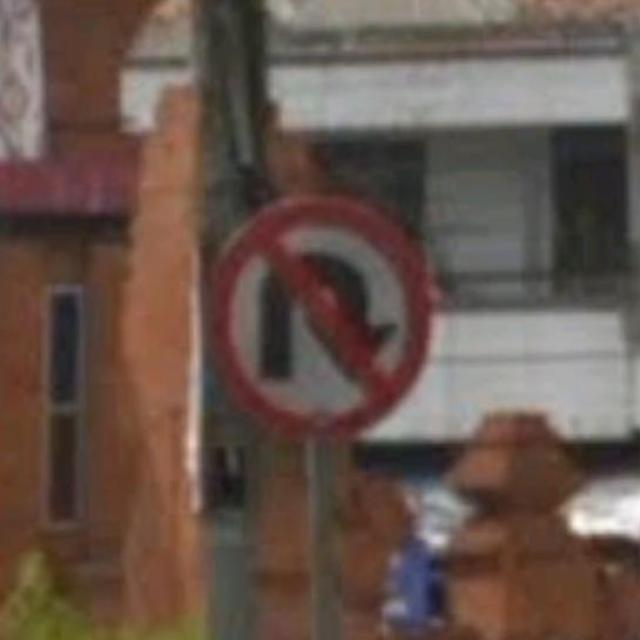traffic sign: (221, 203, 430, 438)
